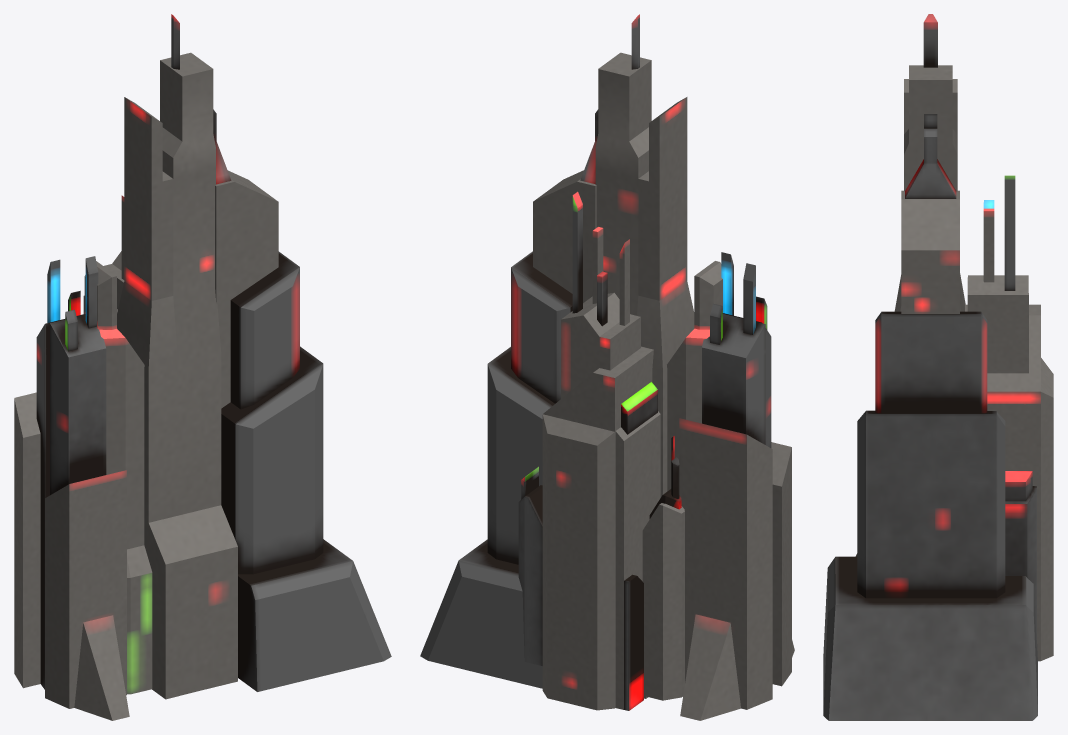
Rendered from SM_BackgroundBuilding_018.fbx.
3 renders of one model, left to right at view 1: azimuth 30°, elevation 25°; view 2: azimuth 150°, elevation 25°; view 3: azimuth 270°, elevation 25°, orthographic. The views are drawn at different scales.
Visible parts, largest first — view 1: SM_BackgroundBuilding_018_LOD0; view 2: SM_BackgroundBuilding_018_LOD0; view 3: SM_BackgroundBuilding_018_LOD0.
Part boxes in pixels (x1,y1,x2,y2): SM_BackgroundBuilding_018_LOD0: [14, 14, 391, 720]; SM_BackgroundBuilding_018_LOD0: [420, 14, 794, 720]; SM_BackgroundBuilding_018_LOD0: [823, 14, 1053, 720].
Bounding box in the file's own units: 3071 × 2038 × 6164.
1 material, 1 textured.
